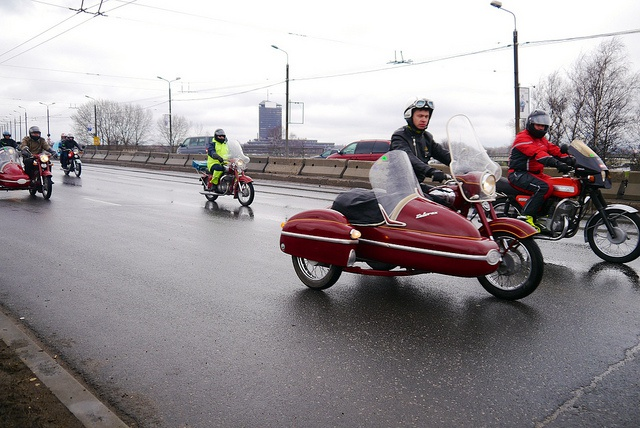non-vehicle: (415, 114, 544, 301), (495, 139, 640, 266), (192, 140, 255, 207), (27, 154, 54, 198), (59, 144, 83, 177)
